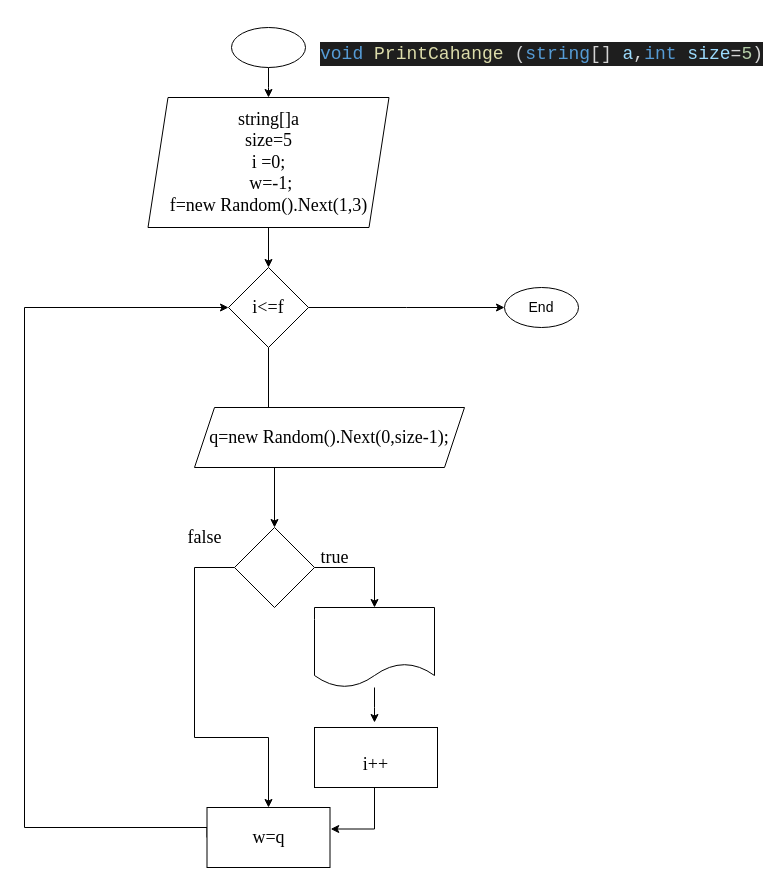
The diagram is 780 pixels wide and 885 high, and some of its shapes have lost their labels. Here are the shapes that lost their labels. From the top down, the box of each, then its label:
(230, 26, 306, 68): Start
(234, 526, 314, 608): w!=q
(314, 606, 434, 688): a[q]
